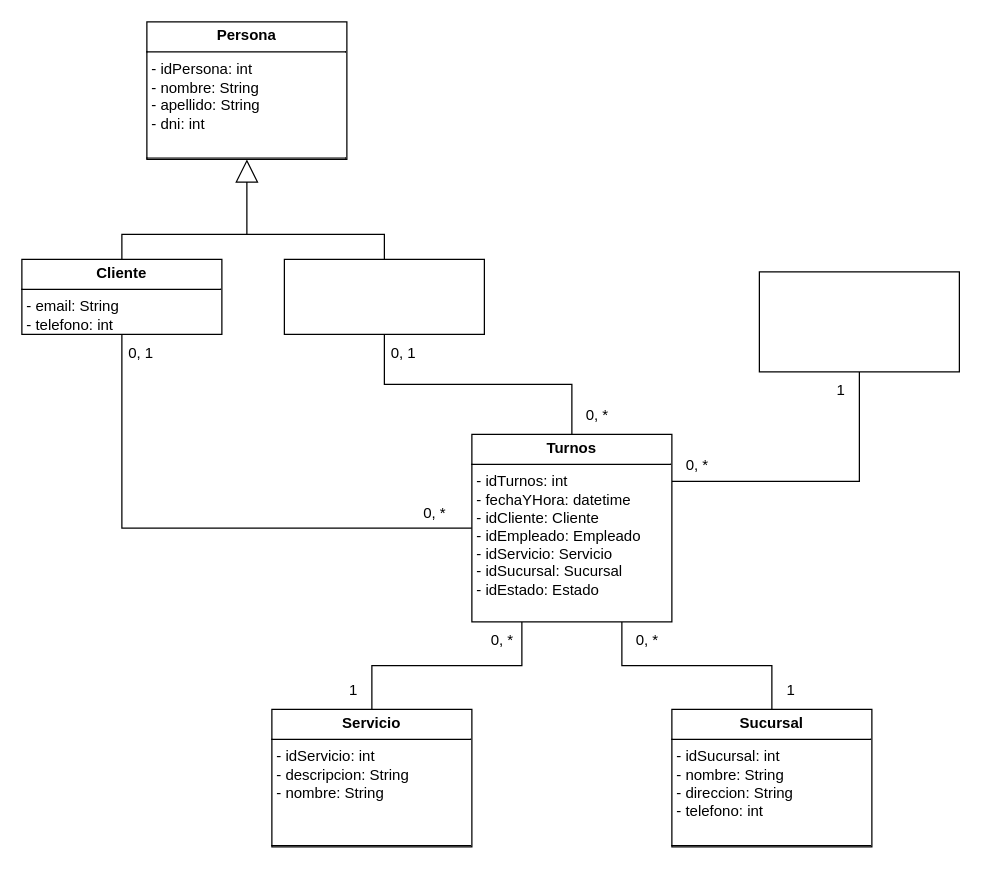
Image size: 981x869. Some labels were removed from this diagram. The centre of each missing label's shape, as x and y in pixels:
Empleado - legajo: int - cargo: String: [383,296]
Estado - idEstado: int - descripcion: String: [858,321]
